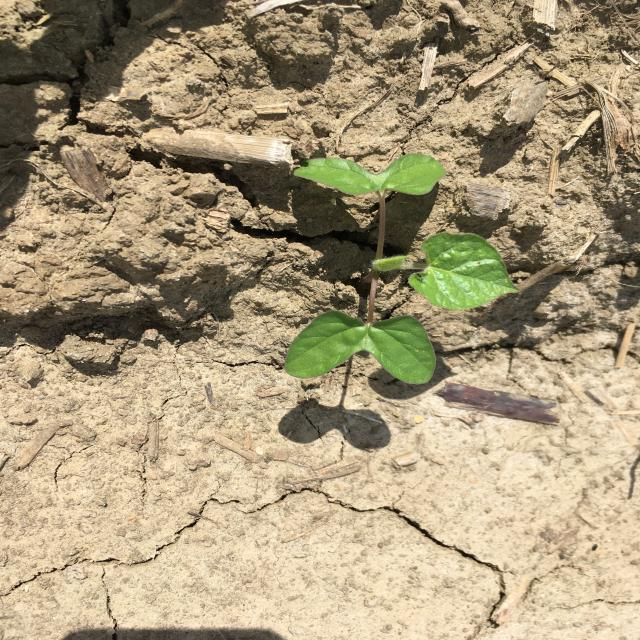MorningGlory: (284, 153, 519, 384)
